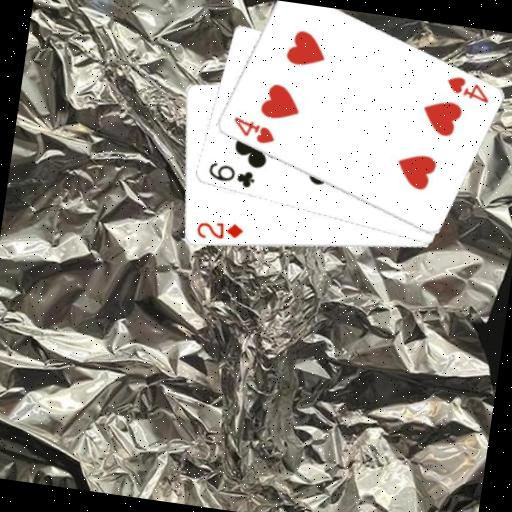2D: (192, 215, 246, 245)
4H: (441, 72, 493, 106), (227, 114, 278, 148)
6C: (203, 158, 257, 191)
